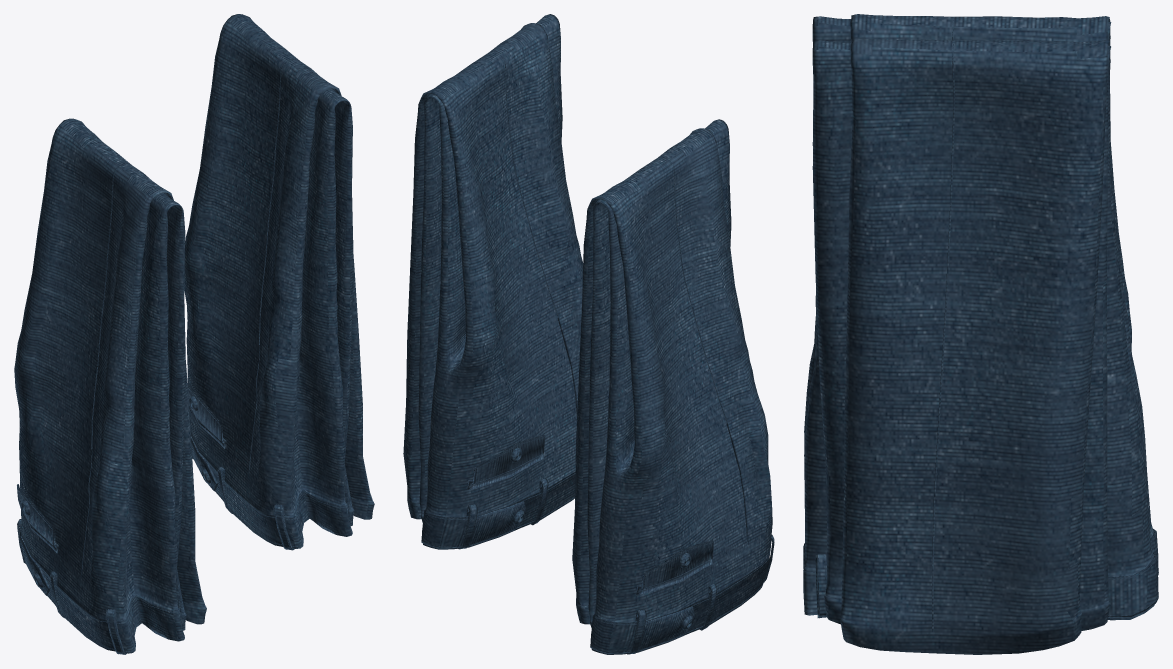
File: yifu10_kuzi_02.fbx
3 renders of one model, left to right at view 1: azimuth 30°, elevation 25°; view 2: azimuth 150°, elevation 25°; view 3: azimuth 270°, elevation 25°, orthographic. The views are drawn at different scales.
Visible parts, largest first — view 1: yifu10_kuzi_02; view 2: yifu10_kuzi_02; view 3: yifu10_kuzi_02.
Part boxes in pixels (box(x1,y1,x2,y2)): yifu10_kuzi_02: box(14, 14, 374, 654); yifu10_kuzi_02: box(403, 14, 774, 654); yifu10_kuzi_02: box(803, 14, 1158, 654).
Bounding box in the file's own units: 39.5 × 67.21 × 32.13.
